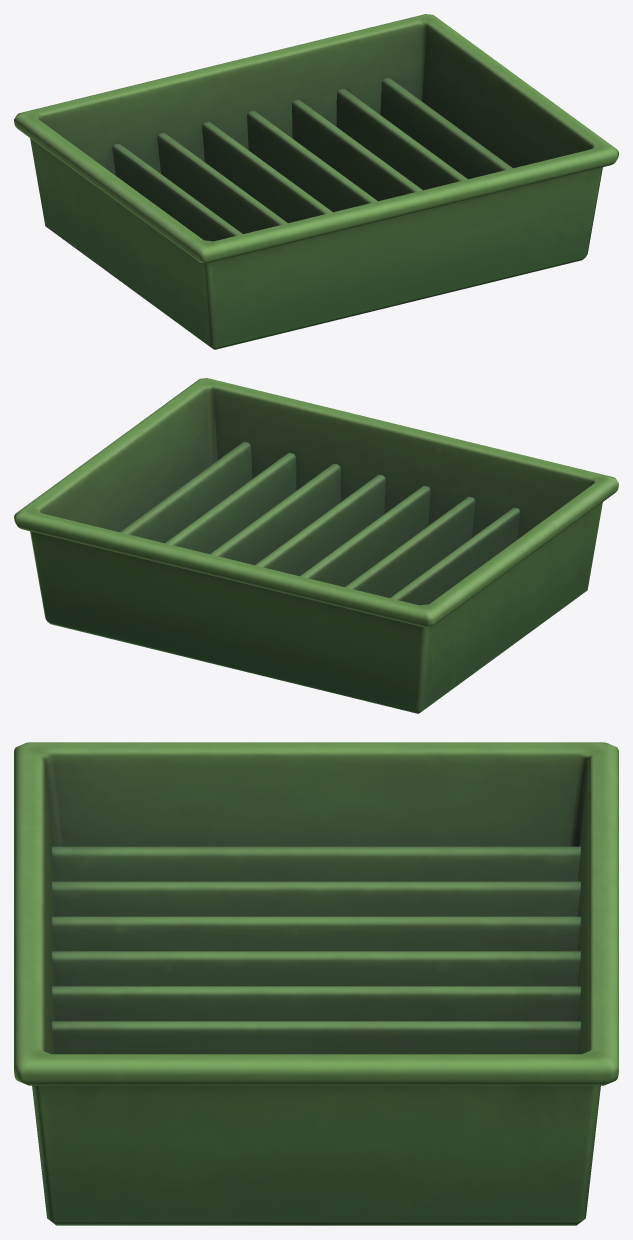
The model's file is SM_PlateHolder.fbx.
The picture shows the model from 3 angles, top to bottom: view 1: azimuth 30°, elevation 25°; view 2: azimuth 150°, elevation 25°; view 3: azimuth 270°, elevation 25°; orthographic projection. The views are drawn at different scales.
Visible parts, largest first — view 1: SM_PlateHolder_LOD0; view 2: SM_PlateHolder_LOD0; view 3: SM_PlateHolder_LOD0.
Part boxes in pixels (x1,y1,x2,y2): SM_PlateHolder_LOD0: (14, 14, 618, 349); SM_PlateHolder_LOD0: (14, 378, 618, 713); SM_PlateHolder_LOD0: (14, 742, 618, 1225).
Bounding box in the file's own units: 45.94 × 36.06 × 11.91.
Materials: 1 (1 with a texture image).
